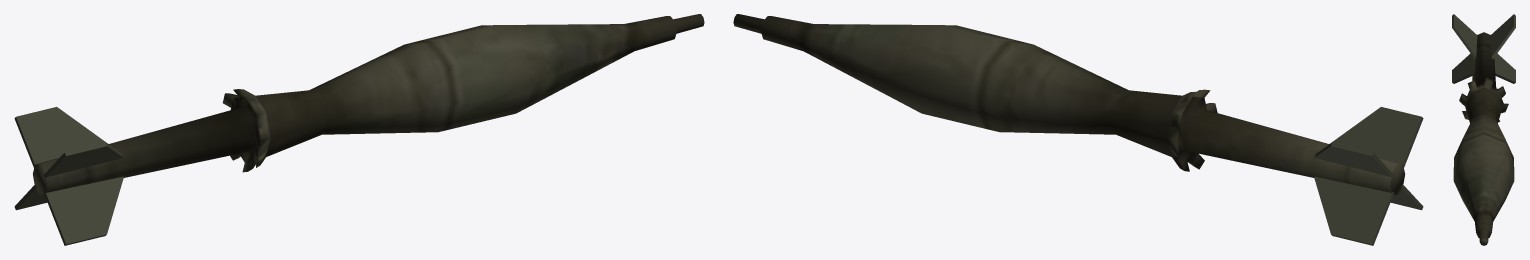
Rendered from missile.glb.
The picture shows the model from 3 angles, left to right: view 1: azimuth 30°, elevation 25°; view 2: azimuth 150°, elevation 25°; view 3: azimuth 270°, elevation 25°; orthographic projection. The views are drawn at different scales.
Parts seen in each view (by area): view 1: Missile_Body; view 2: Missile_Body; view 3: Missile_Body.
Part boxes in pixels (x1,y1,x2,y2): Missile_Body: (14, 14, 704, 245); Missile_Body: (733, 14, 1423, 245); Missile_Body: (1452, 14, 1515, 245).
Bounding box in the file's own units: 0.4519 × 0.0612 × 0.0612.
2 materials, 1 textured.
